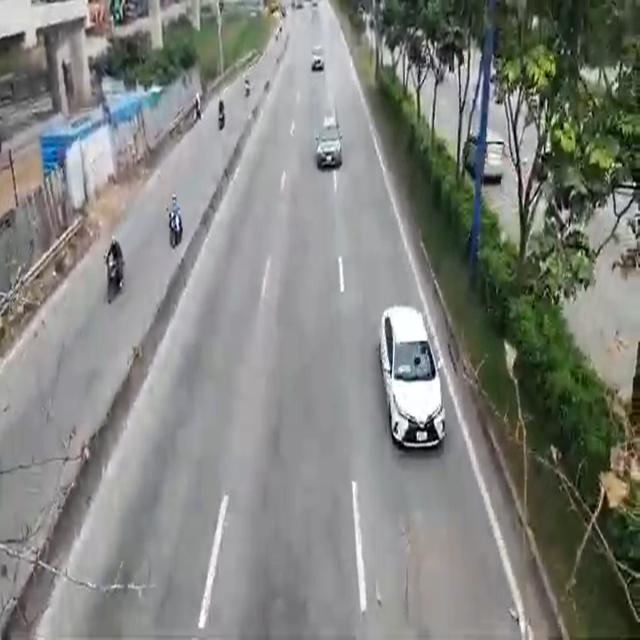car: (376, 309, 447, 453), (315, 113, 340, 169), (309, 44, 324, 74)
motor: (104, 244, 122, 296), (165, 196, 183, 248), (216, 95, 224, 134)
